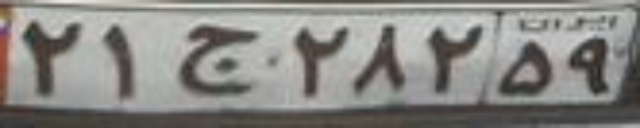1: (101, 24, 144, 100)
2: (21, 19, 82, 95), (424, 21, 483, 93), (292, 24, 349, 97)
5: (495, 38, 553, 94)
8: (352, 24, 410, 92)
9: (566, 35, 611, 94)
jim: (175, 23, 257, 96)
